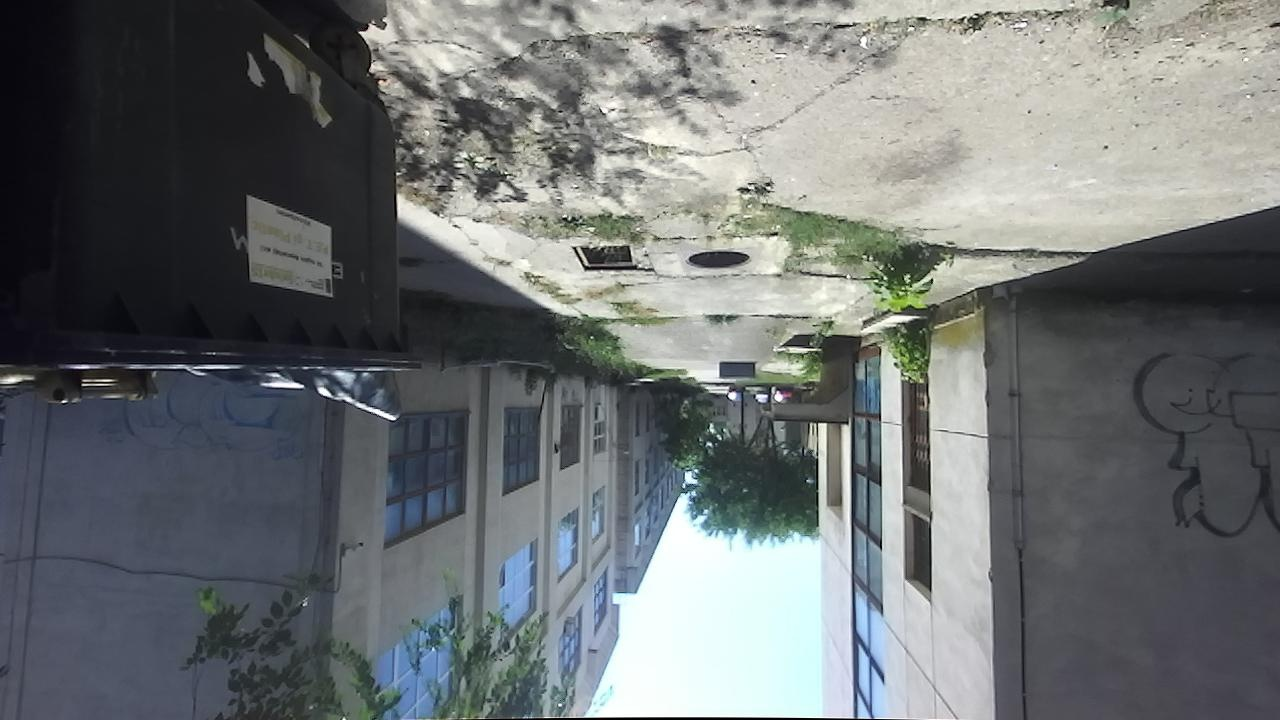drain: (566, 240, 638, 273), (678, 248, 753, 276)
